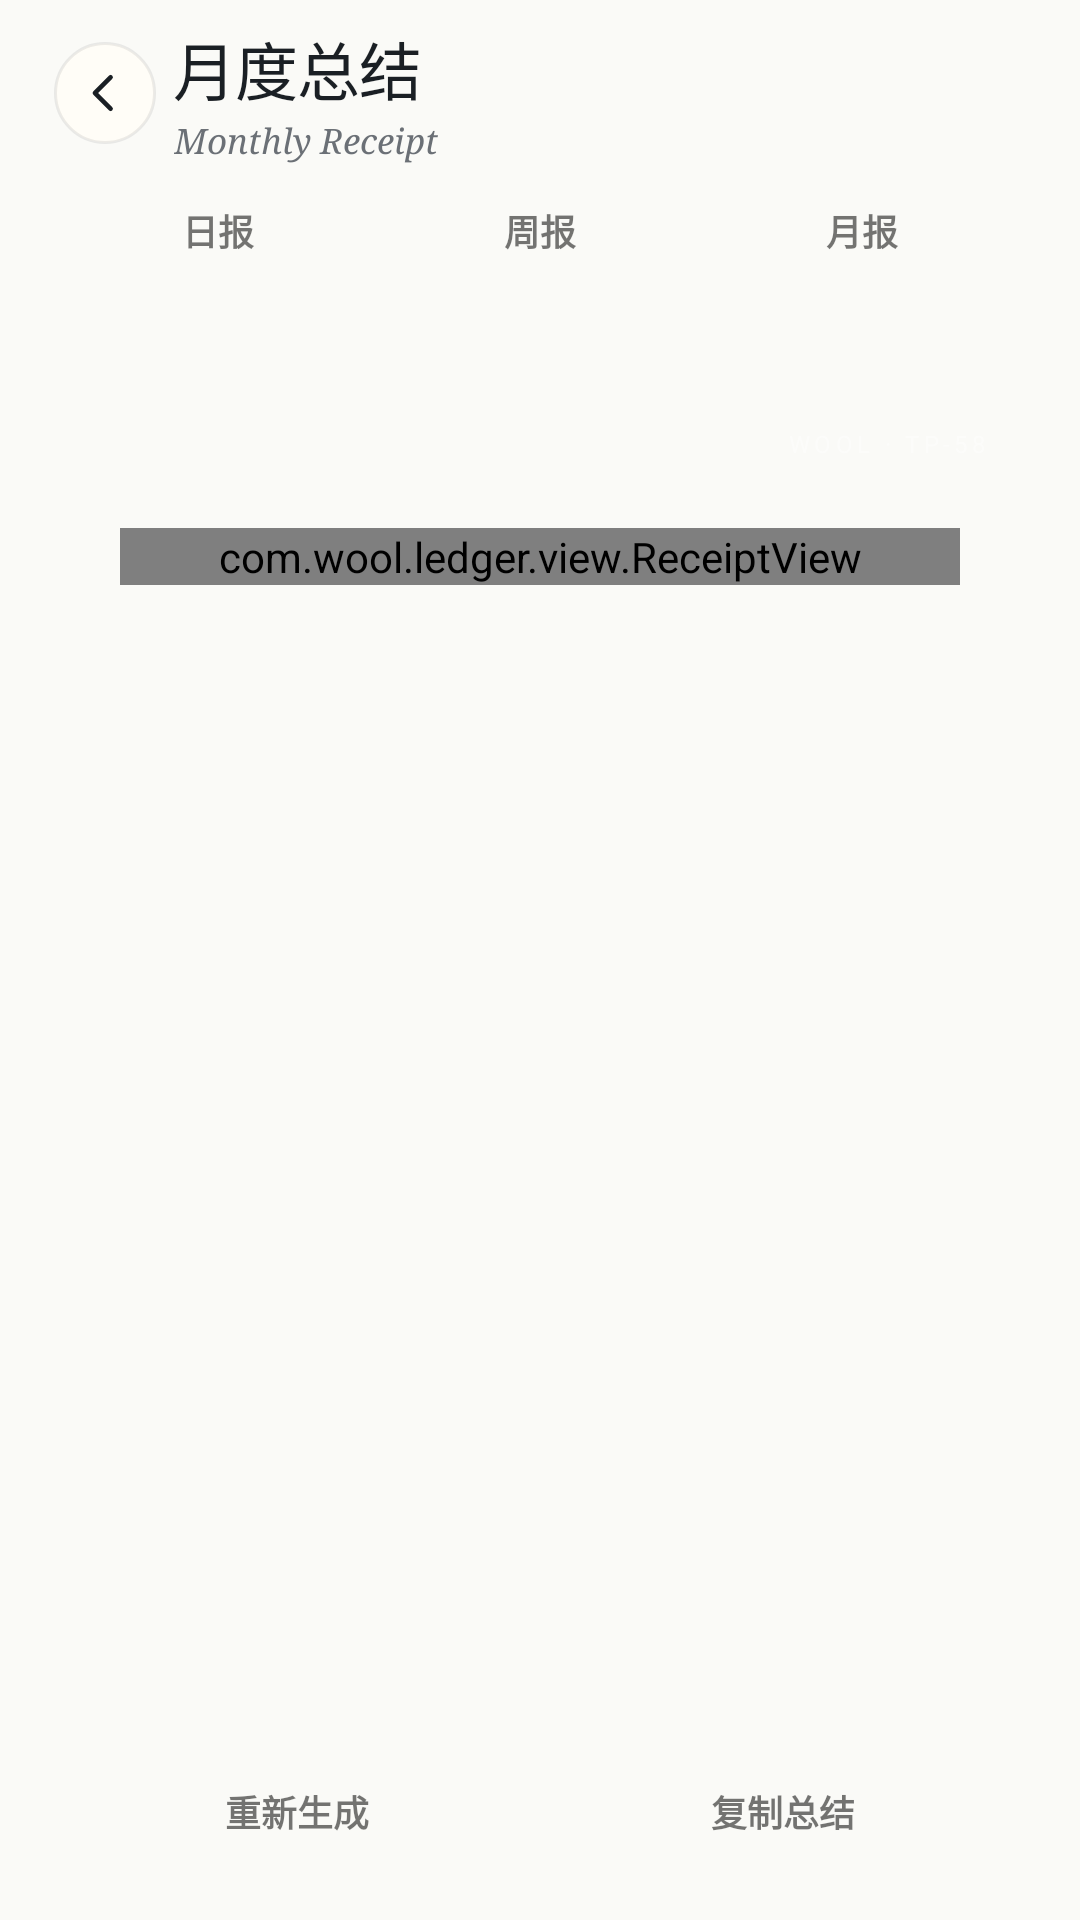

Icons on this 1080 x 1920 Android screen, each with the point to tap as point (x, y):
返回: point (102, 93)
